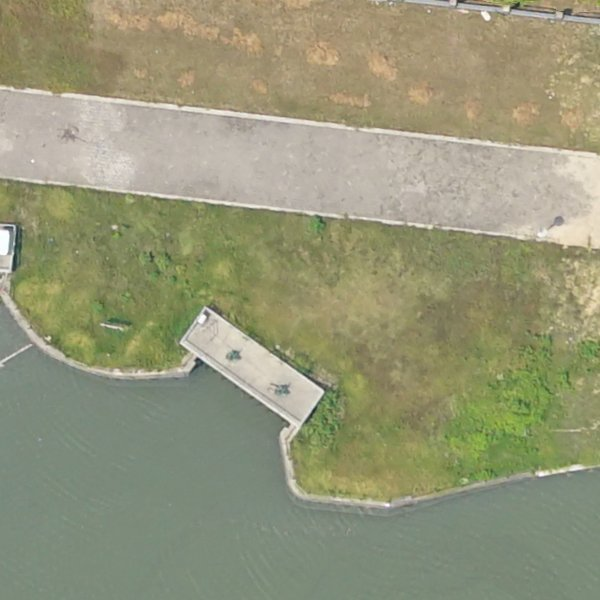Type1: (153, 296, 337, 493)
